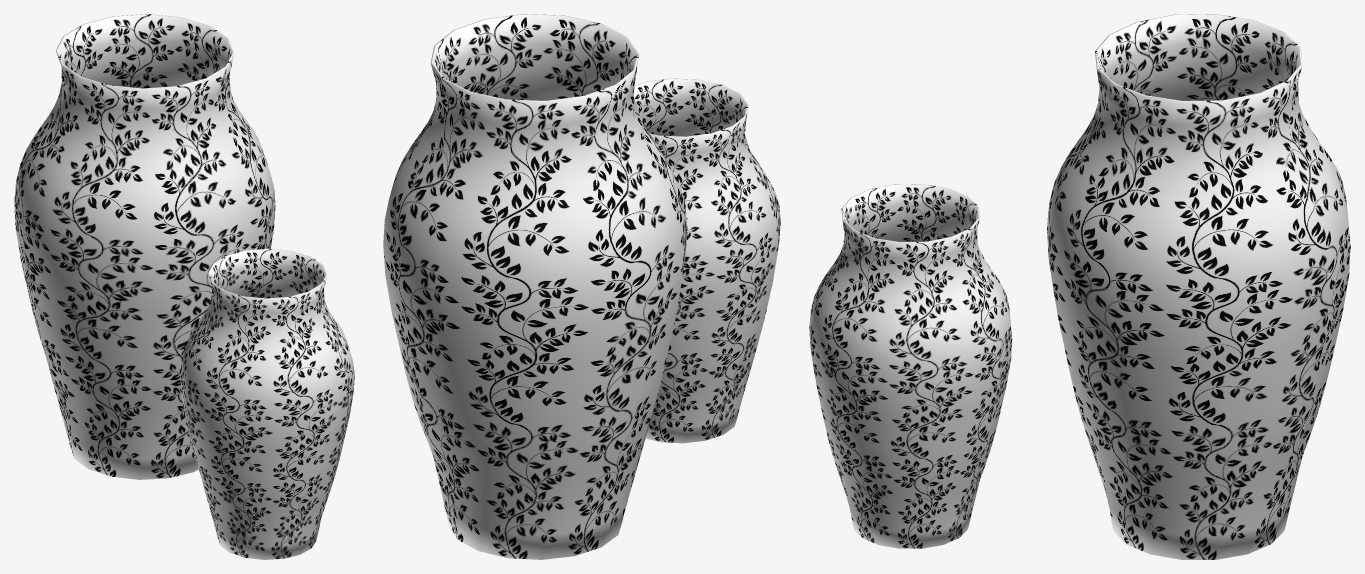
The model's file is modern_vase_.fbx.
3 views of the same model, side by side, from view 1: azimuth 30°, elevation 25°; view 2: azimuth 150°, elevation 25°; view 3: azimuth 270°, elevation 25° (orthographic). The views are drawn at different scales.
Parts seen in each view (by area): view 1: S. vas.001; view 2: S. vas.001; view 3: S. vas.001.
Boxes of the visible parts, x1,y1,x2,y2 form: S. vas.001: (14, 14, 354, 559); S. vas.001: (383, 14, 780, 559); S. vas.001: (809, 14, 1350, 559).
Bounding box in the file's own units: 150 × 255 × 268.
Materials: 1 (1 with a texture image).
